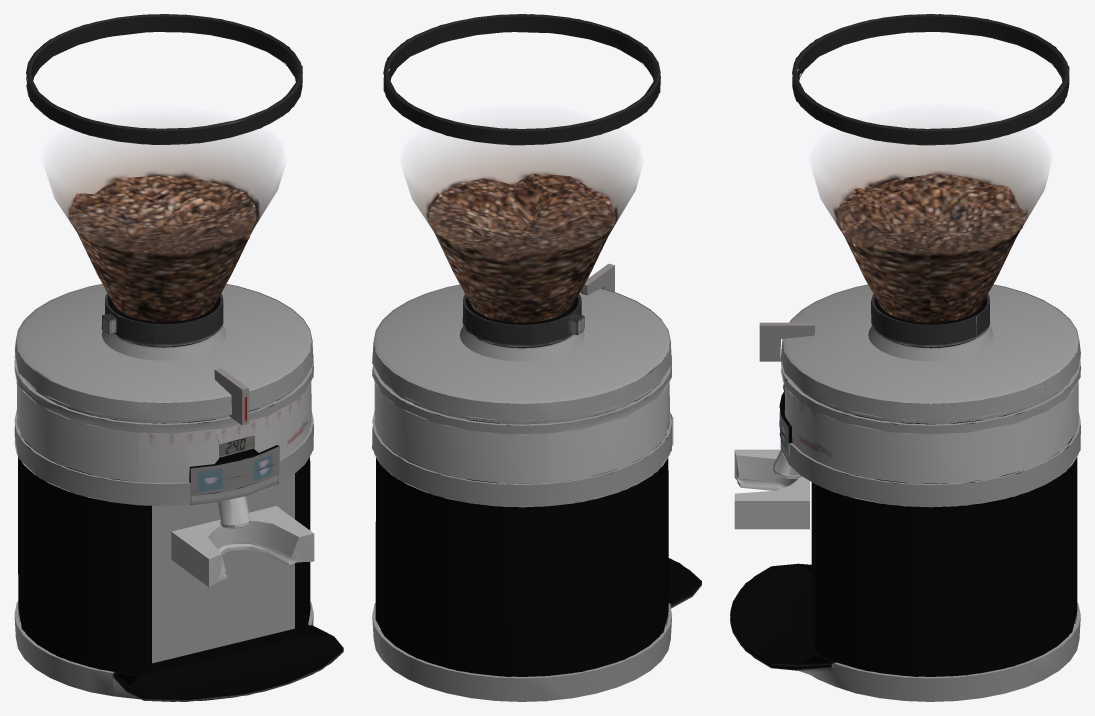
The model's file is coffee-grinder.glb.
3 renders of one model, left to right at view 1: azimuth 30°, elevation 25°; view 2: azimuth 150°, elevation 25°; view 3: azimuth 270°, elevation 25°, orthographic.
Visible parts, largest first — view 1: beans_1_Mat_0; view 2: beans_1_Mat_0; view 3: beans_1_Mat_0.
Boxes of the visible parts, <box> form: beans_1_Mat_0: <box>14,14,343,701</box>; beans_1_Mat_0: <box>372,14,701,701</box>; beans_1_Mat_0: <box>730,14,1080,701</box>.
Bounding box in the file's own units: 1.81 × 3.78 × 2.11.
Materials: 1 (1 with a texture image).
